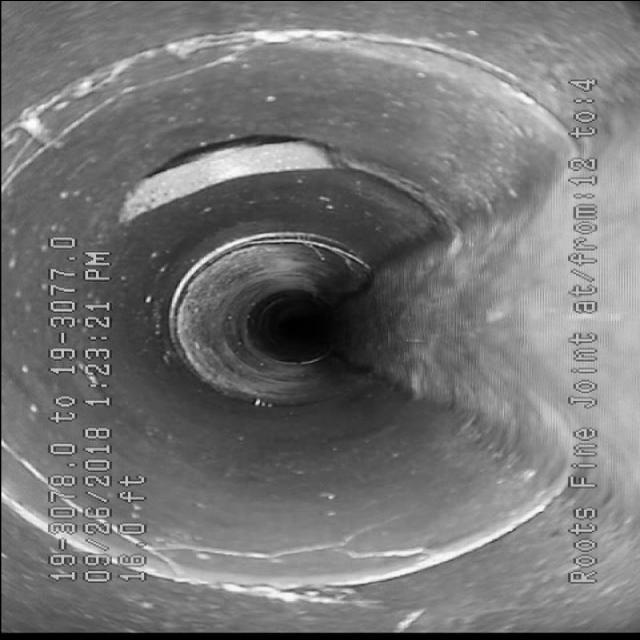Crack: (166, 510, 400, 580)
